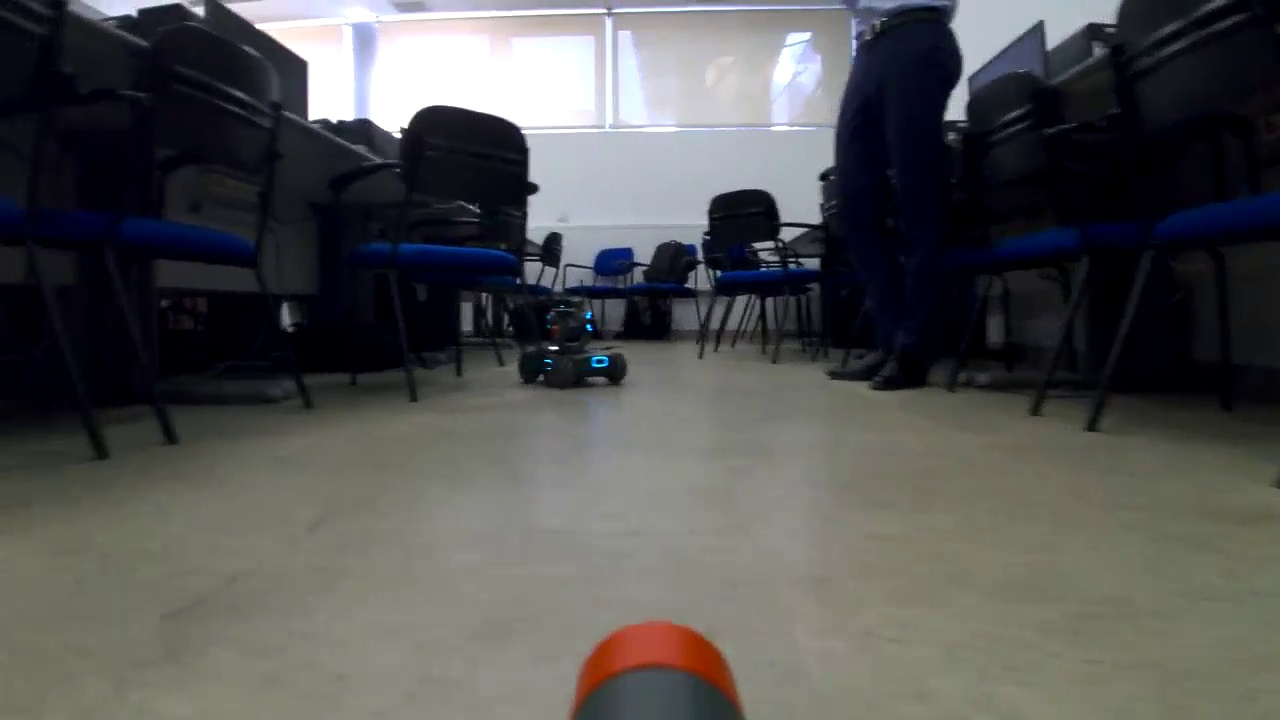robot: (515, 292, 630, 386)
